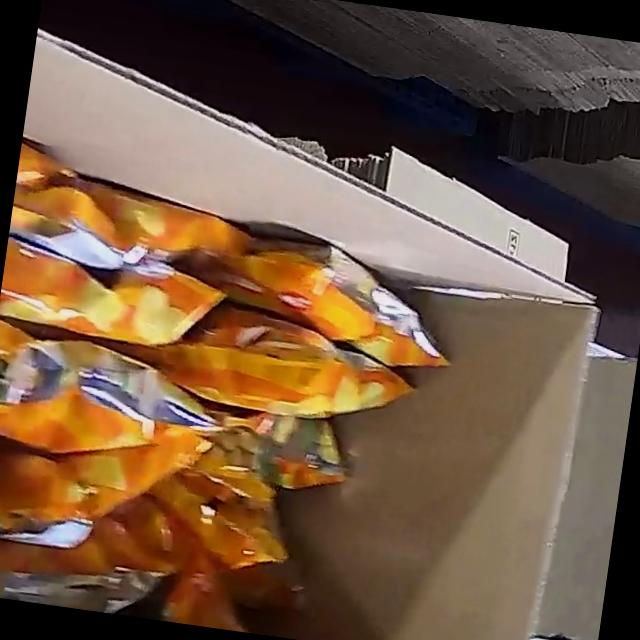cheese: (0, 108, 481, 640)
